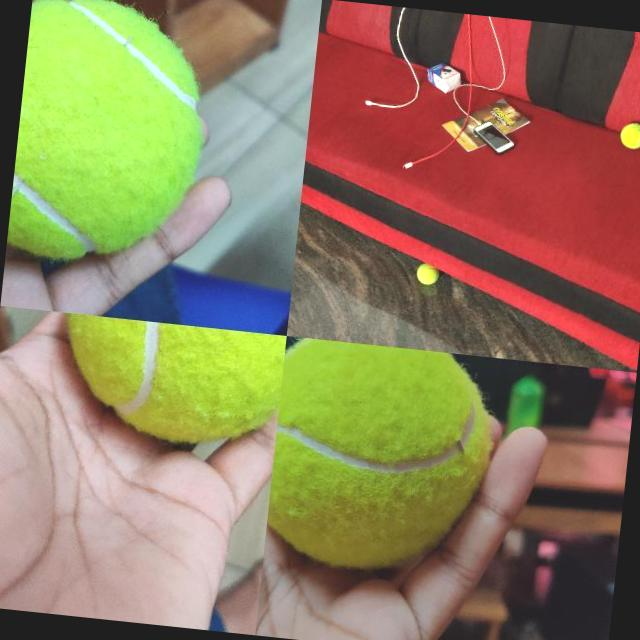Tennis Ball: (263, 336, 499, 578), (5, 0, 214, 272), (54, 312, 286, 450), (618, 120, 640, 149), (414, 267, 439, 285)
